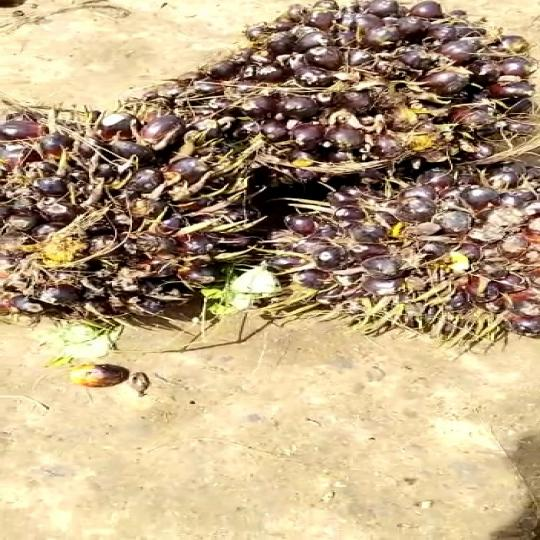mentah: (184, 0, 540, 187), (0, 93, 237, 340), (250, 158, 540, 344)
